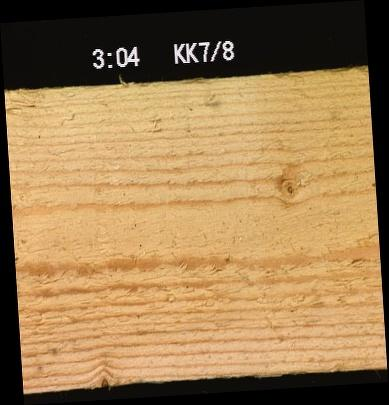edge_knot: (93, 364, 117, 389)
small_knot: (272, 160, 314, 206)
